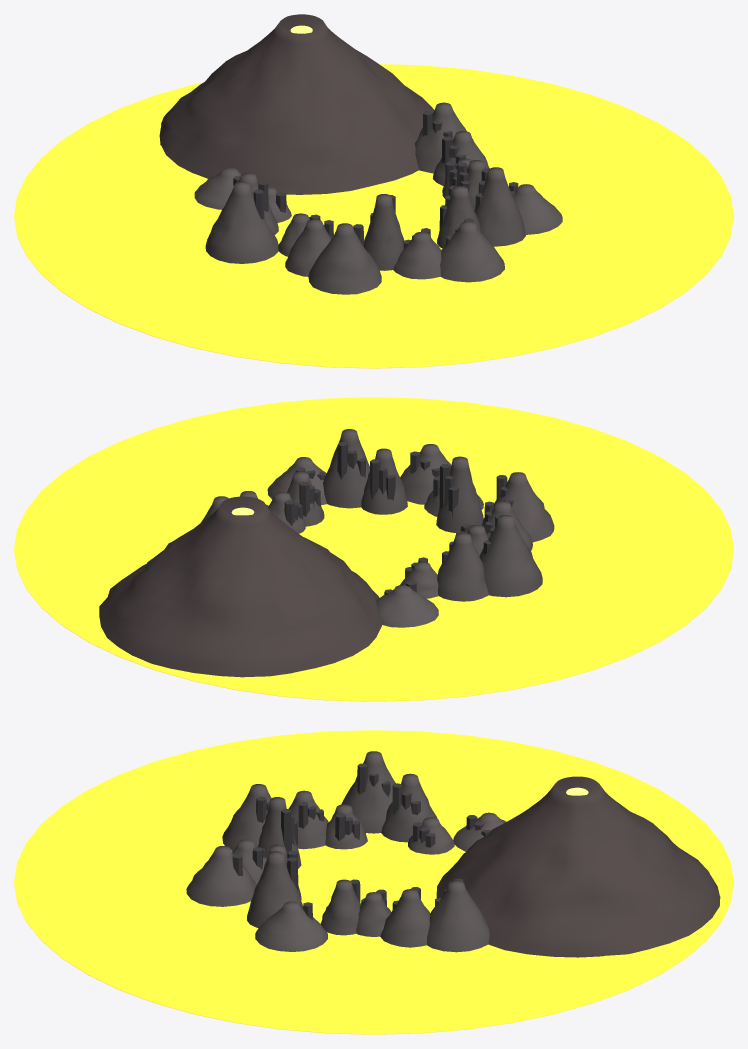
The model's file is BACKDROP.glb.
3 views of the same model, one above another, from view 1: azimuth 30°, elevation 25°; view 2: azimuth 150°, elevation 25°; view 3: azimuth 270°, elevation 25° (orthographic).
Visible parts, largest first — view 1: BACKDROP; view 2: BACKDROP; view 3: BACKDROP.
Part boxes in pixels (left/top/right/bottom): BACKDROP: left=14, top=14, right=733, bottom=368; BACKDROP: left=14, top=397, right=733, bottom=701; BACKDROP: left=14, top=730, right=733, bottom=1034.
Bounding box in the file's own units: 340 × 58.56 × 340.
